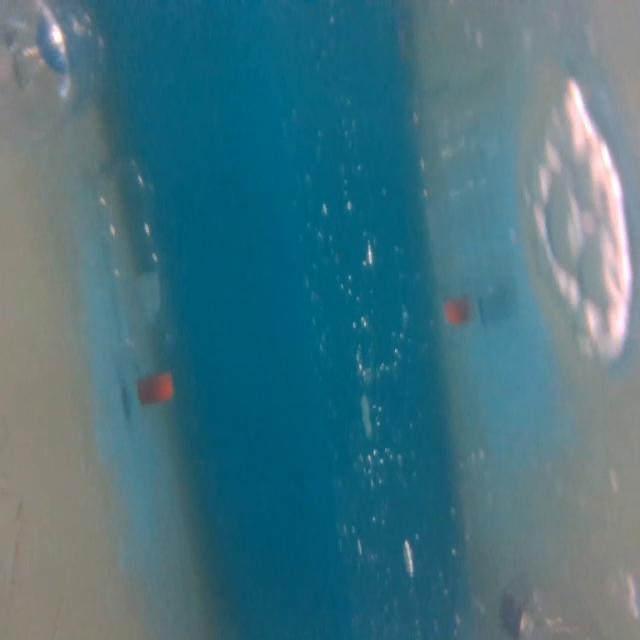plastic bottle: (88, 140, 197, 412)
